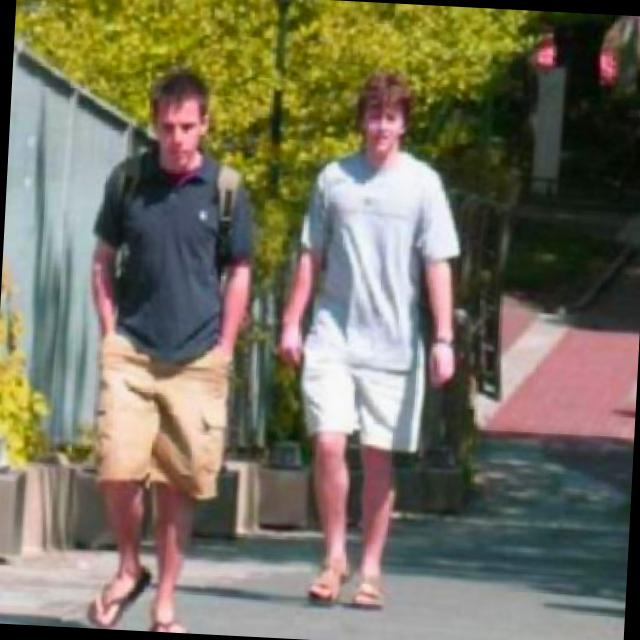Person: (262, 67, 473, 610), (70, 66, 261, 634)
